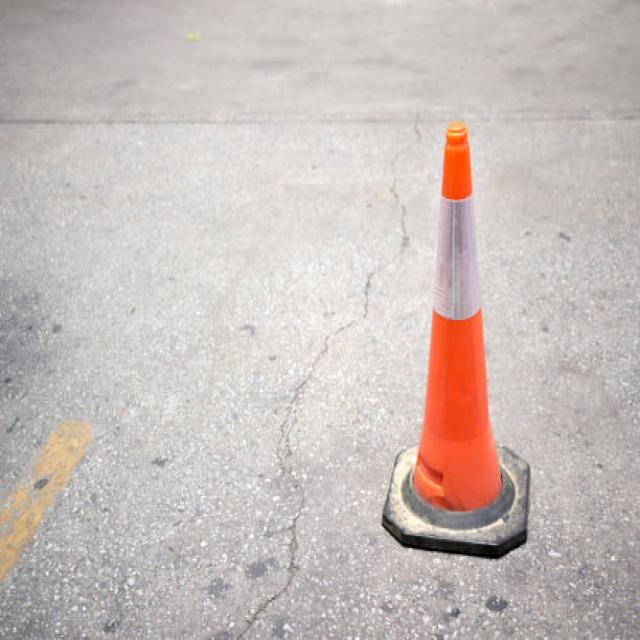Traffic Cone: (366, 90, 546, 578)
